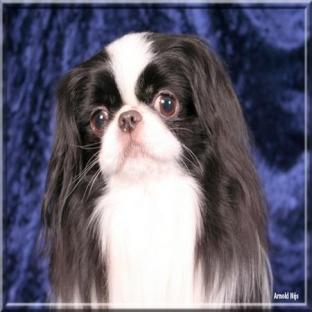Animal: (42, 32, 272, 308)
